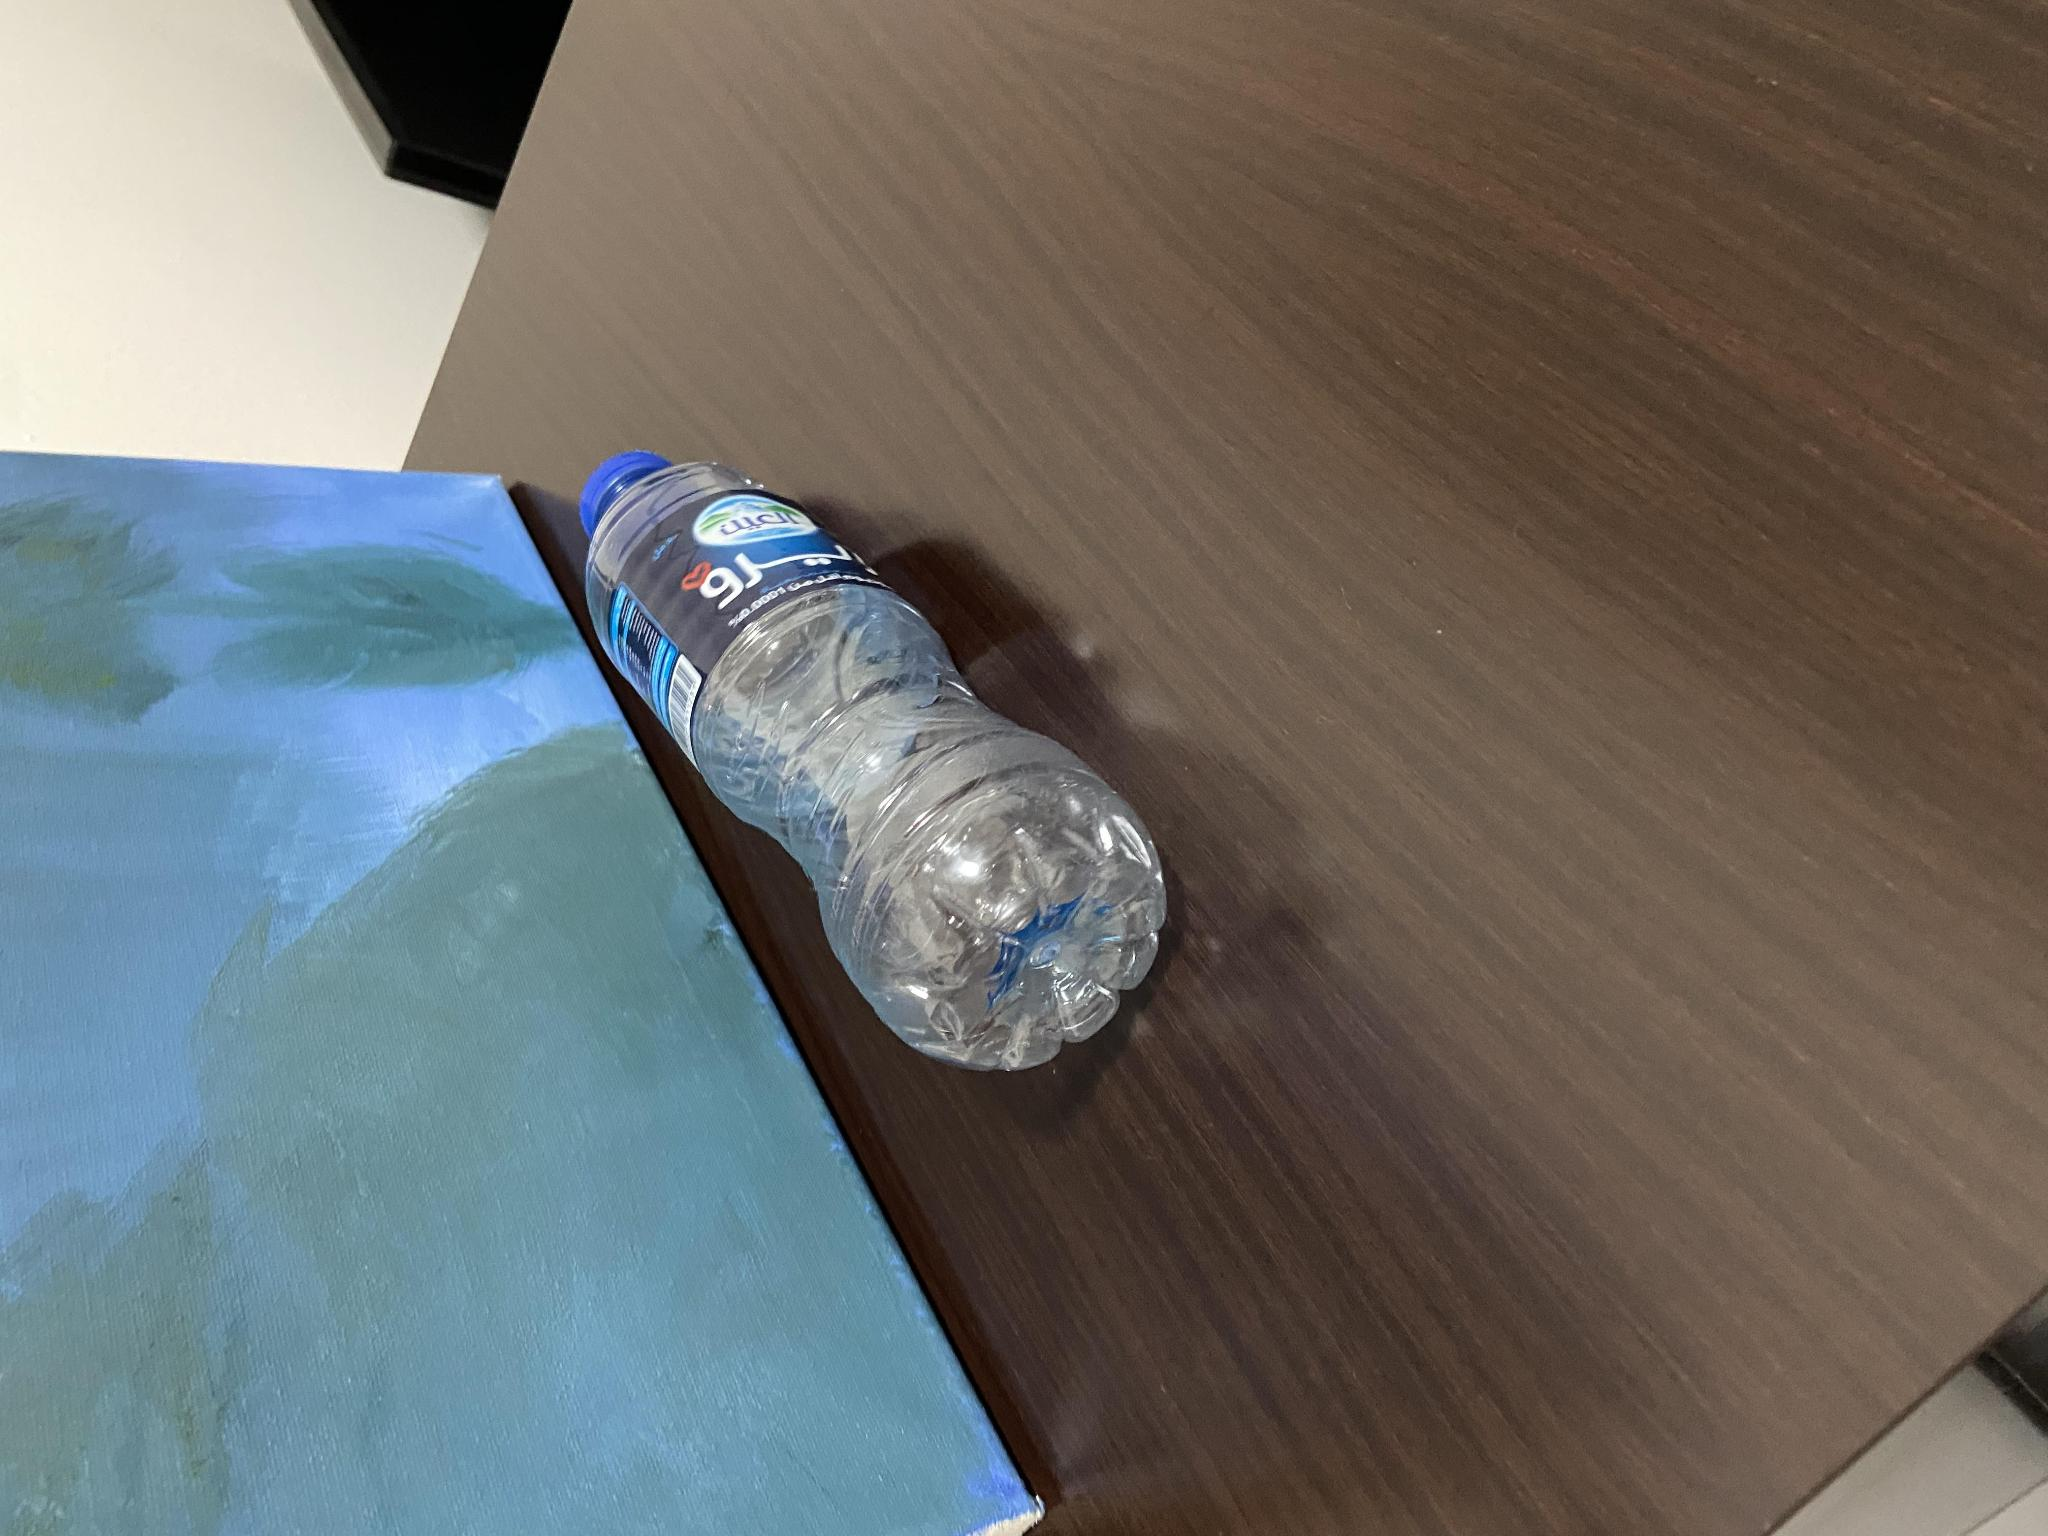bottle: (550, 382, 1193, 1086)
